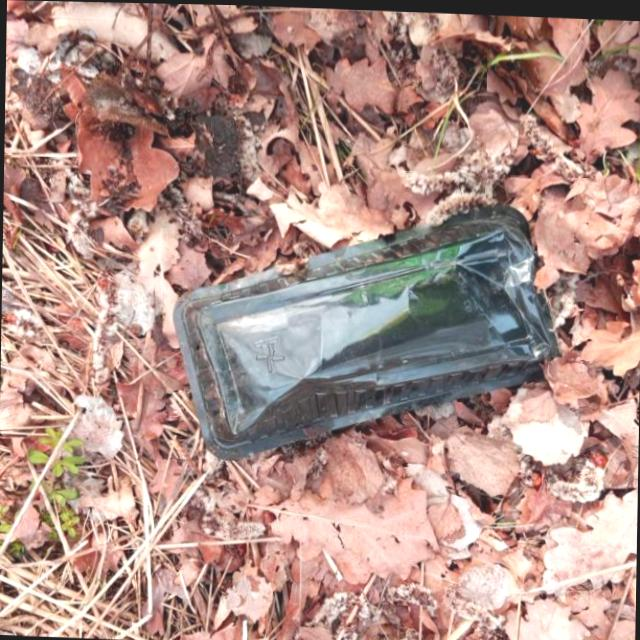Plastic: (167, 197, 563, 474)
